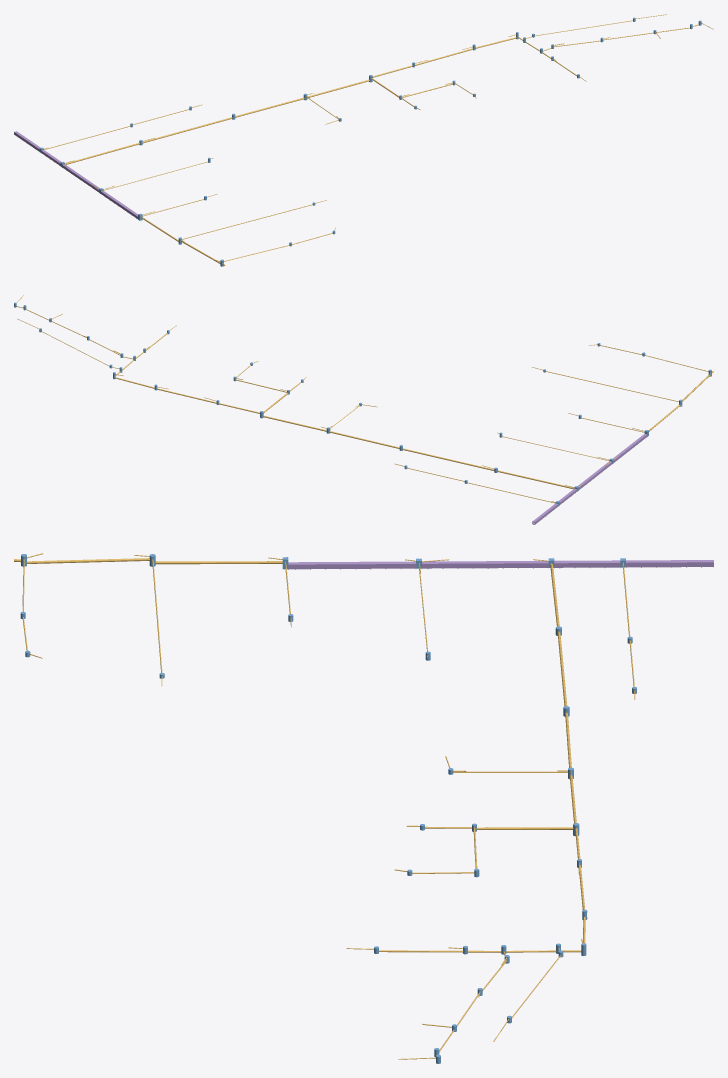
File: 500125-CSSP001-780-XX-MD-ST-000339.glb
The picture shows the model from 3 angles, top to bottom: view 1: azimuth 30°, elevation 25°; view 2: azimuth 150°, elevation 25°; view 3: azimuth 270°, elevation 25°; orthographic projection. The views are drawn at different scales.
Parts seen in each view (by area): view 1: no part large enough to name; view 2: no part large enough to name; view 3: 500125-CSSP001-780-XX-MD-ST-000339#BOX002, 500125-CSSP001-780-XX-MD-ST-000339#BOX003.
Boxes of the visible parts, x1,y1,x2,y2 form: 500125-CSSP001-780-XX-MD-ST-000339#BOX002: [422, 560, 620, 568]; 500125-CSSP001-780-XX-MD-ST-000339#BOX003: [288, 561, 416, 569].
Size of the model in its own units: 504 by 17.11 by 281.
